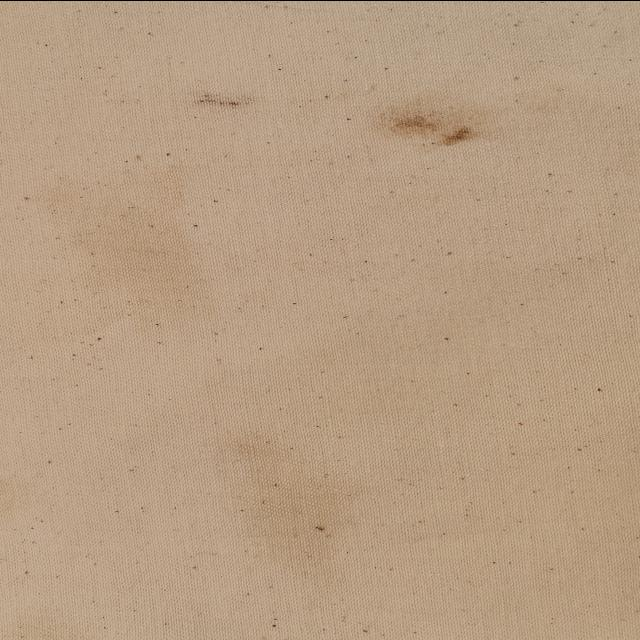taaaches: (369, 97, 493, 148), (182, 88, 256, 108)
